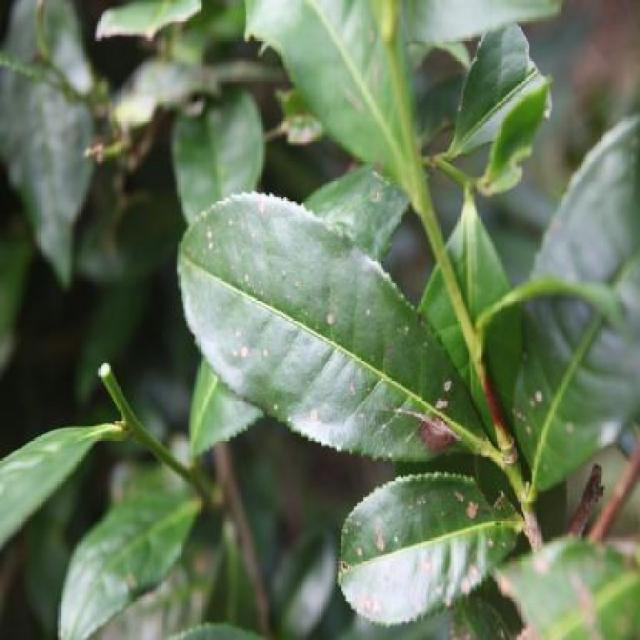Leaf rust of tea: (168, 211, 510, 434), (371, 418, 518, 588)
